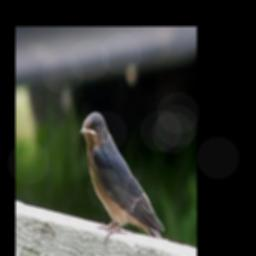Swallow: (79, 110, 165, 246)
